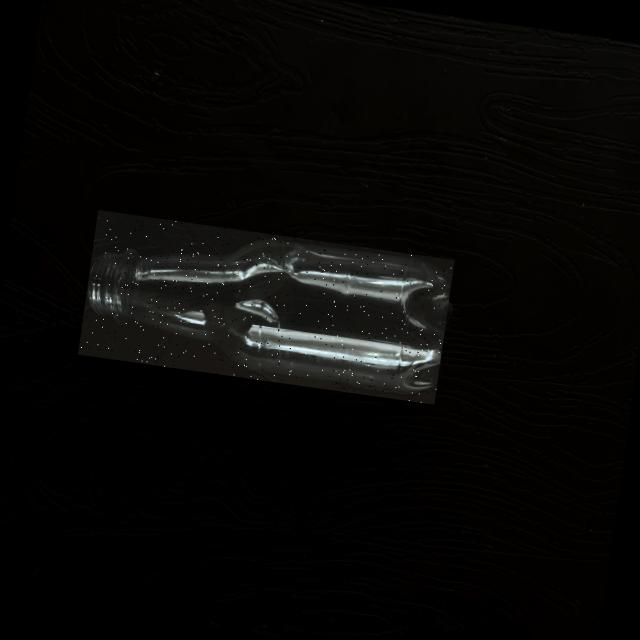PET_ClearBottle: (78, 209, 455, 404)
